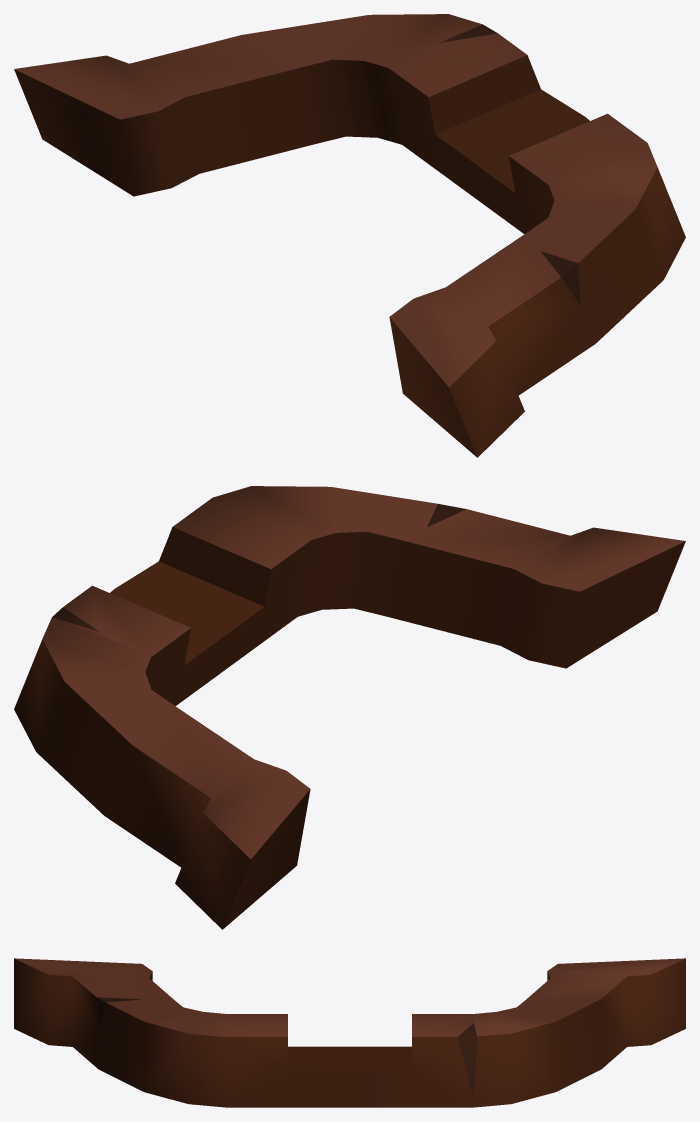
File: crossbow.fbx
3 views of the same model, one above another, from view 1: azimuth 30°, elevation 25°; view 2: azimuth 150°, elevation 25°; view 3: azimuth 270°, elevation 25° (orthographic). The views are drawn at different scales.
Visible parts, largest first — view 1: Cube.019; view 2: Cube.019; view 3: Cube.019.
Boxes of the visible parts, x1=… form: Cube.019: x1=14, y1=14, x2=685, y2=457; Cube.019: x1=14, y1=486, x2=685, y2=929; Cube.019: x1=14, y1=958, x2=685, y2=1107.
Size of the model in its own units: 131 by 47.97 by 272.
